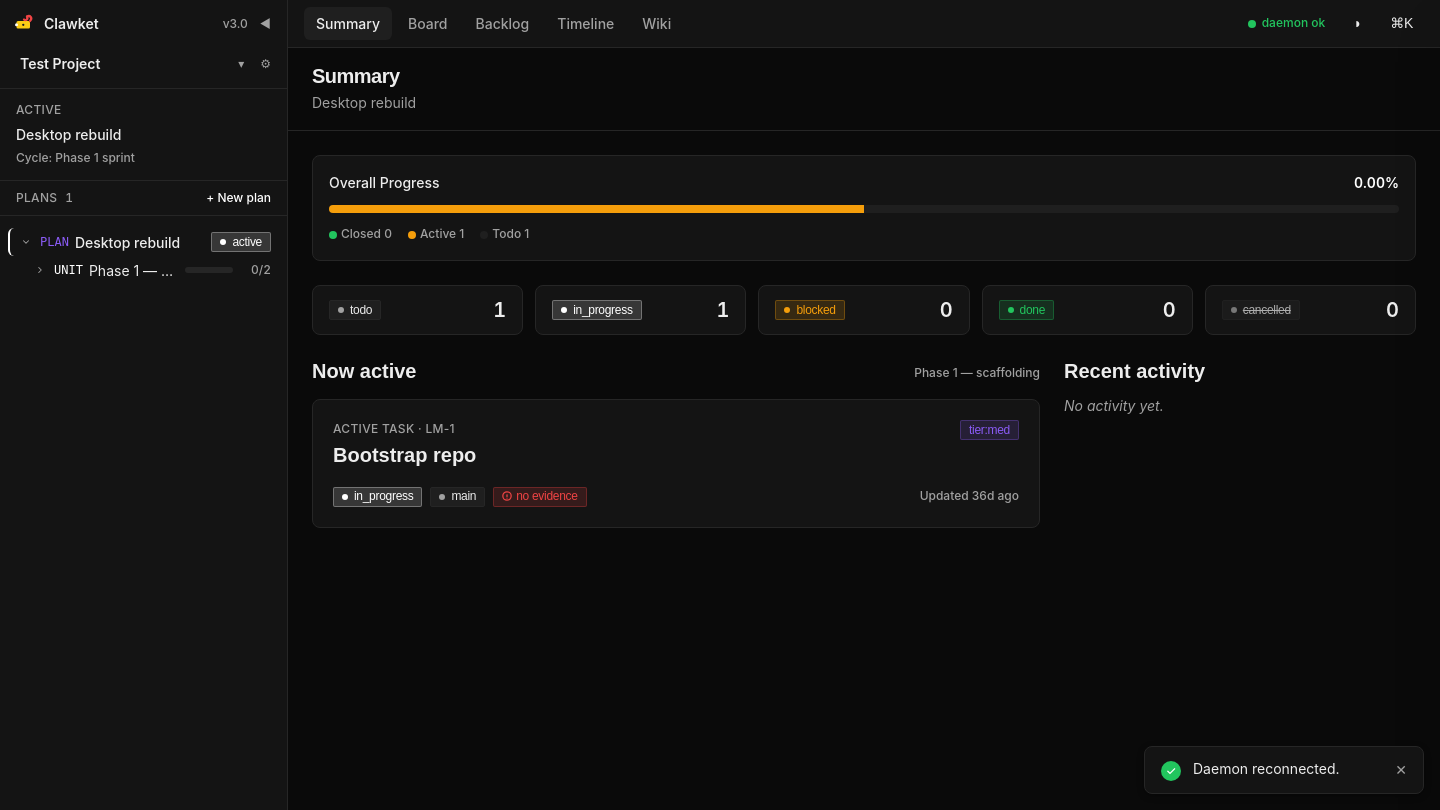
Test: Command palette → selection (B1) › clicking a Unit row selects the unit
The image size is (1440, 810).
expect the button with test id "daemon-health" is shown: met, box [1240,10,1333,37]
Click the button with test id "open-command-palette": {"x": 1402, "y": 24} [1379,10,1424,38]
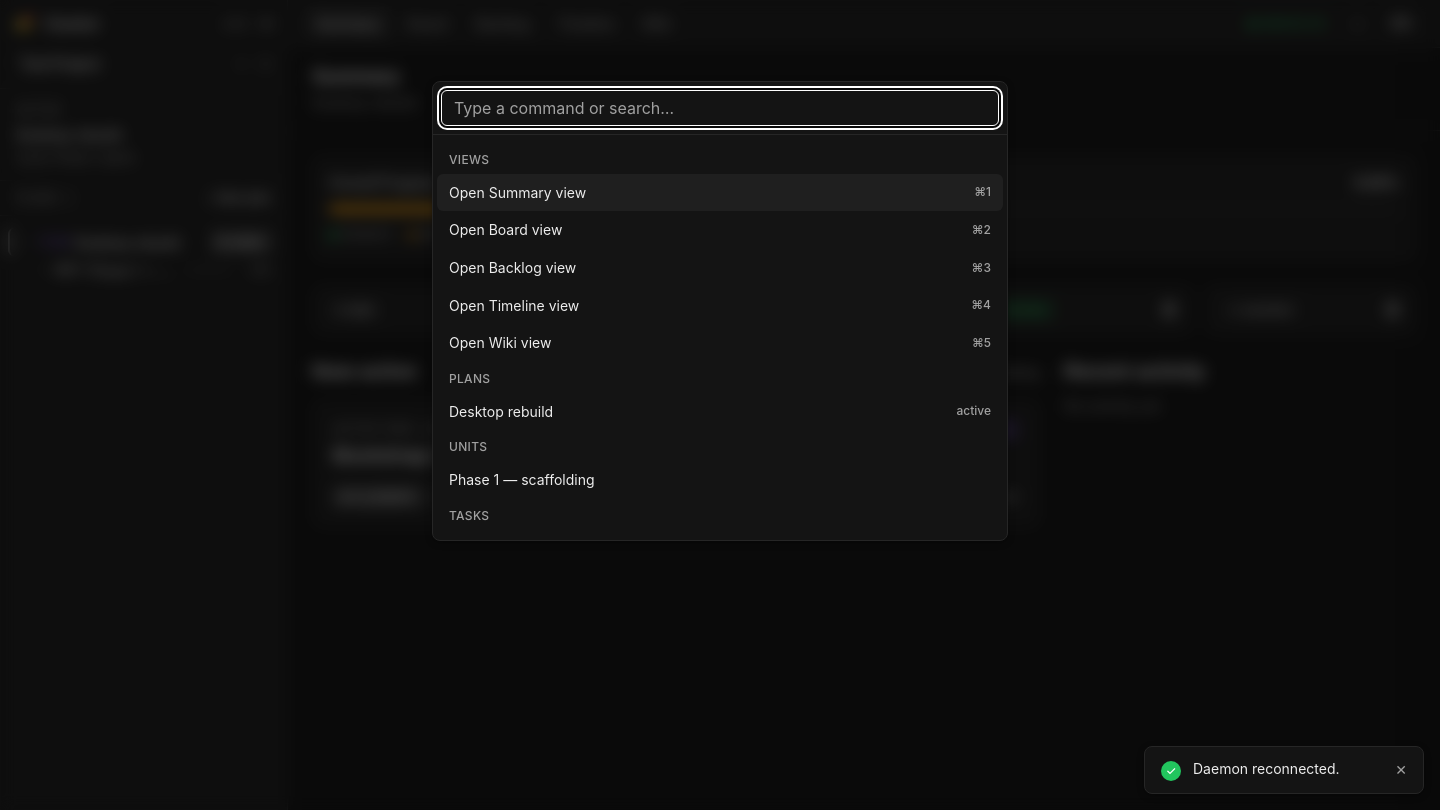
Click the option "Phase 1 — scaffolding": {"x": 522, "y": 479} [449,471,594,488]
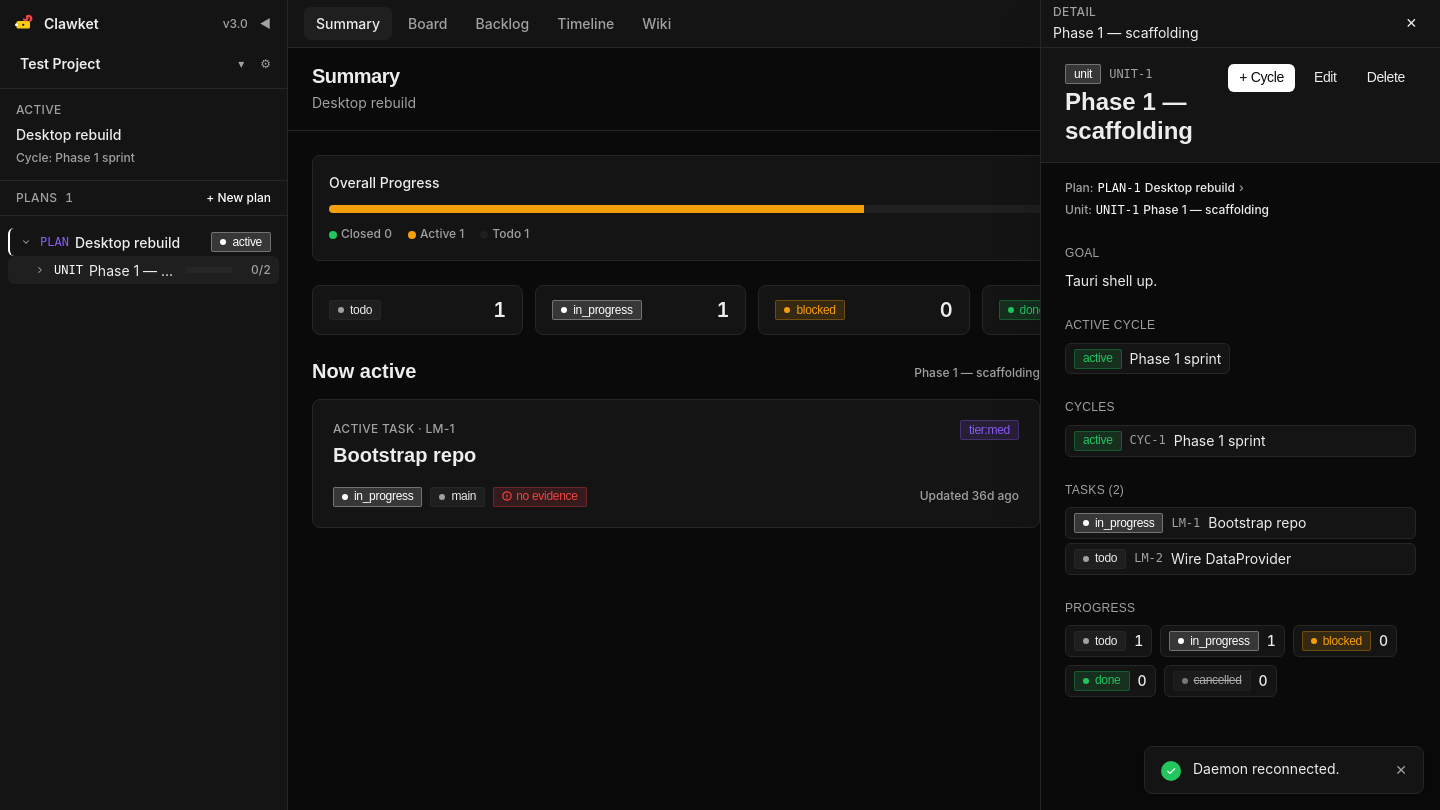
expect the dialog is gone: met
